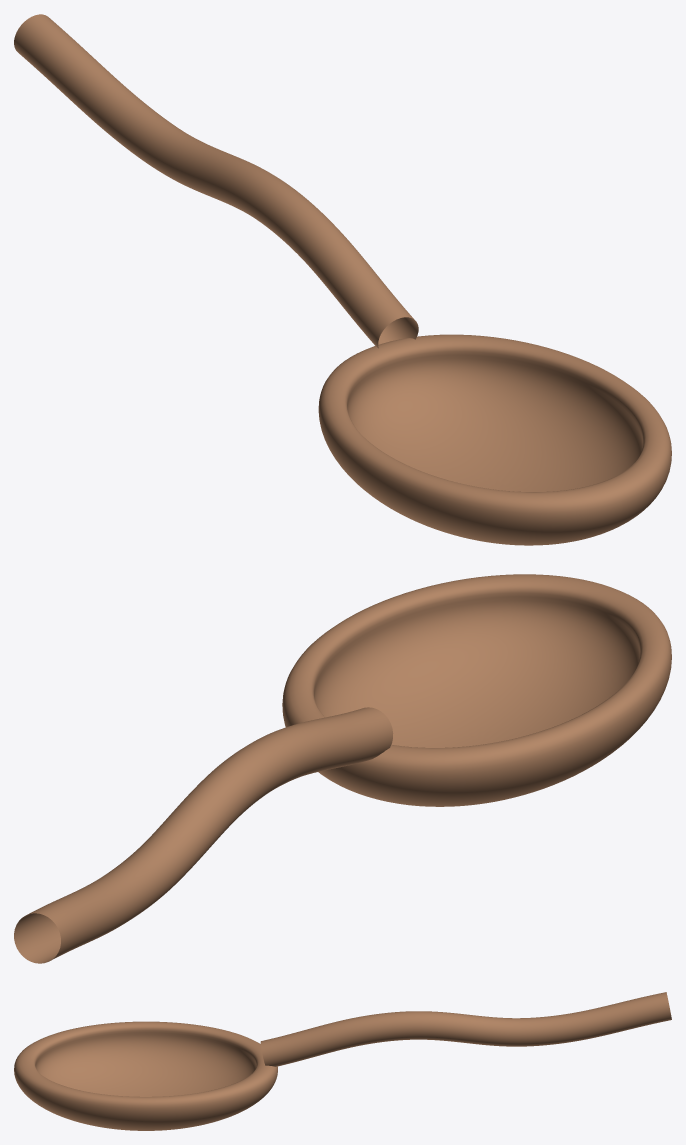
Rendered from cuchara_d.glb.
3 renders of one model, top to bottom at view 1: azimuth 30°, elevation 25°; view 2: azimuth 150°, elevation 25°; view 3: azimuth 270°, elevation 25°, orthographic. The views are drawn at different scales.
Visible parts, largest first — view 1: cazo_cerezo, mango_cerezo; view 2: cazo_cerezo, mango_cerezo; view 3: cazo_cerezo, mango_cerezo.
Boxes of the visible parts, <box> form: cazo_cerezo: <box>318,334,671,545</box>; mango_cerezo: <box>14,14,418,348</box>; cazo_cerezo: <box>282,574,671,806</box>; mango_cerezo: <box>14,707,393,963</box>; cazo_cerezo: <box>14,1021,277,1130</box>; mango_cerezo: <box>260,992,671,1066</box>.
Size of the model in its own units: 0.1471 by 0.0933 by 0.4947.
